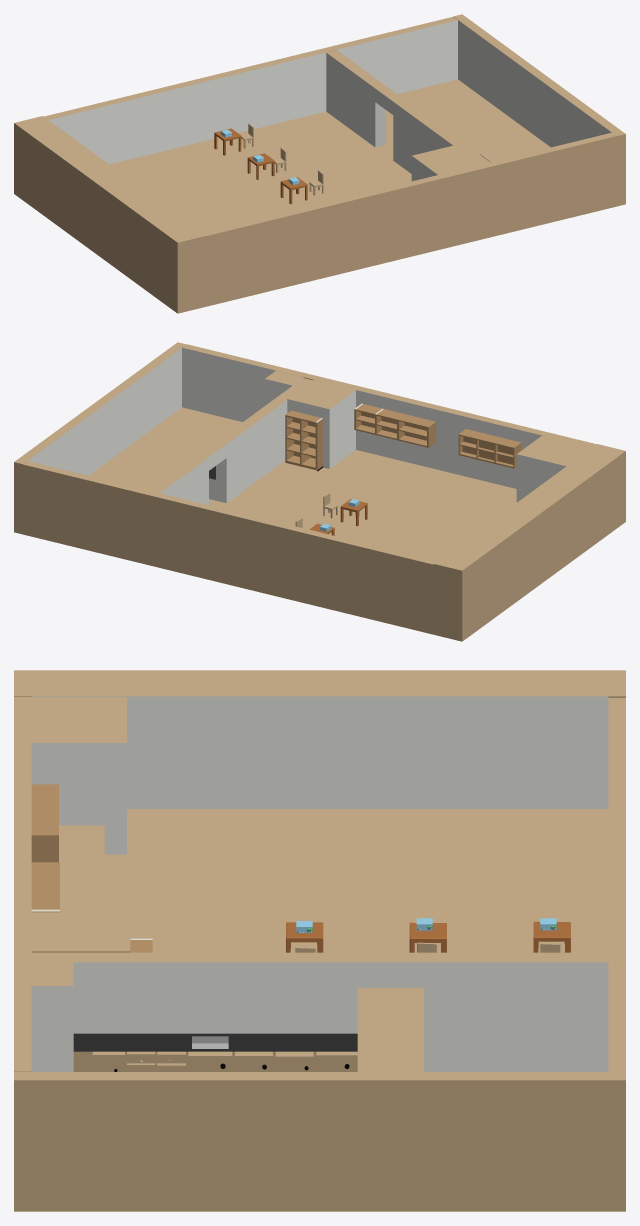
The picture shows the model from 3 angles, top to bottom: view 1: azimuth 30°, elevation 25°; view 2: azimuth 150°, elevation 25°; view 3: azimuth 270°, elevation 25°; orthographic projection. The views are drawn at different scales.
Parts seen in each view (by area): view 1: Plane; view 2: Plane; view 3: Plane, Cube.001, Cube.002, Cube.
Part boxes in pixels (x1,y1,x2,y2): Plane: (14,14,625,313); Plane: (14,342,625,641); Plane: (14,670,625,1211); Cube.001: (409,922,446,952); Cube.002: (533,921,570,952); Cube: (286,922,323,952).
Size of the model in its own units: 15.63 by 2.36 by 9.88.
